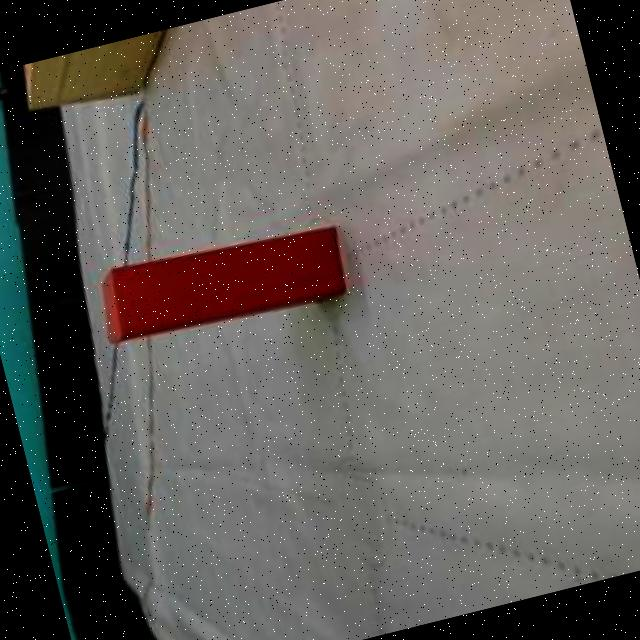redbox: (89, 214, 354, 355)
